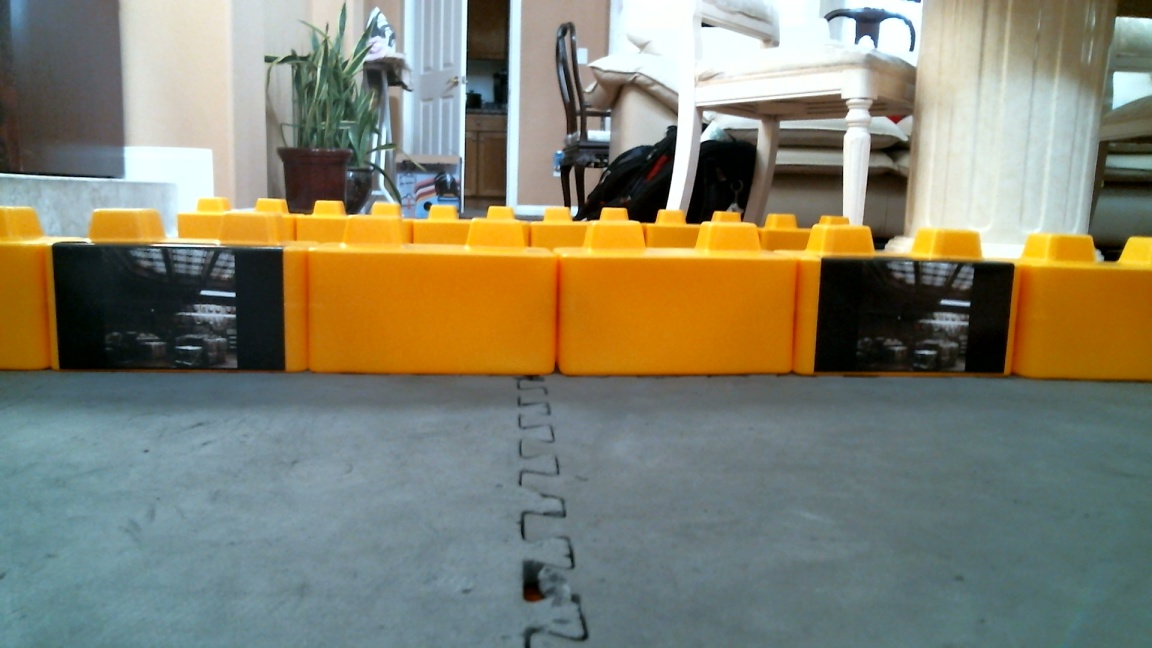skystone: (46, 205, 310, 374), (799, 222, 1019, 382)
stone: (309, 216, 560, 377), (561, 219, 797, 375), (1016, 231, 1152, 378), (1, 199, 56, 370)
